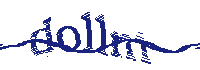d: (30, 16, 54, 55)
l: (79, 9, 95, 53), (95, 13, 109, 57)
m: (110, 29, 151, 64)
o: (56, 23, 81, 53)
